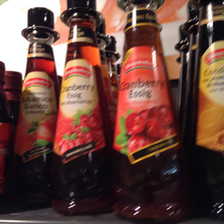vinegar: (107, 1, 195, 220), (55, 1, 114, 215), (8, 8, 59, 209)
